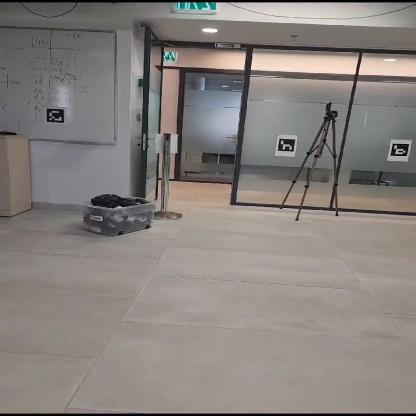open: (148, 68, 242, 206)
